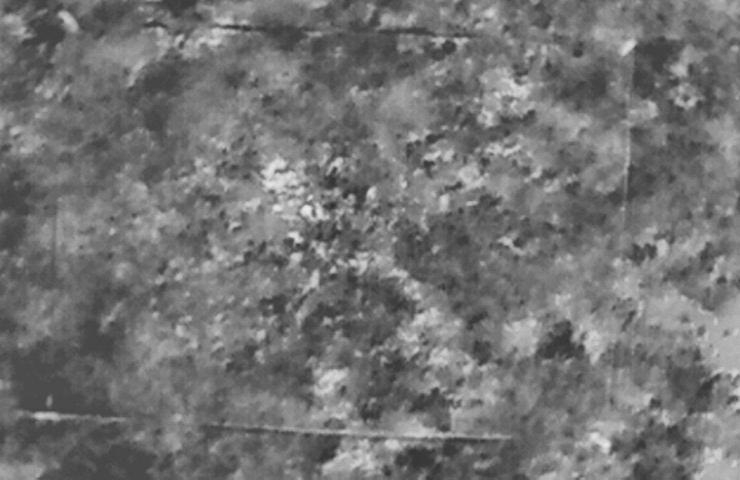landmines: (259, 154, 316, 208)
